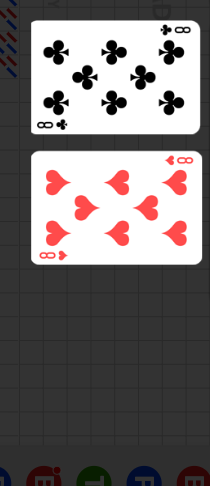8C: (35, 117, 69, 131)
8H: (38, 249, 70, 262)
